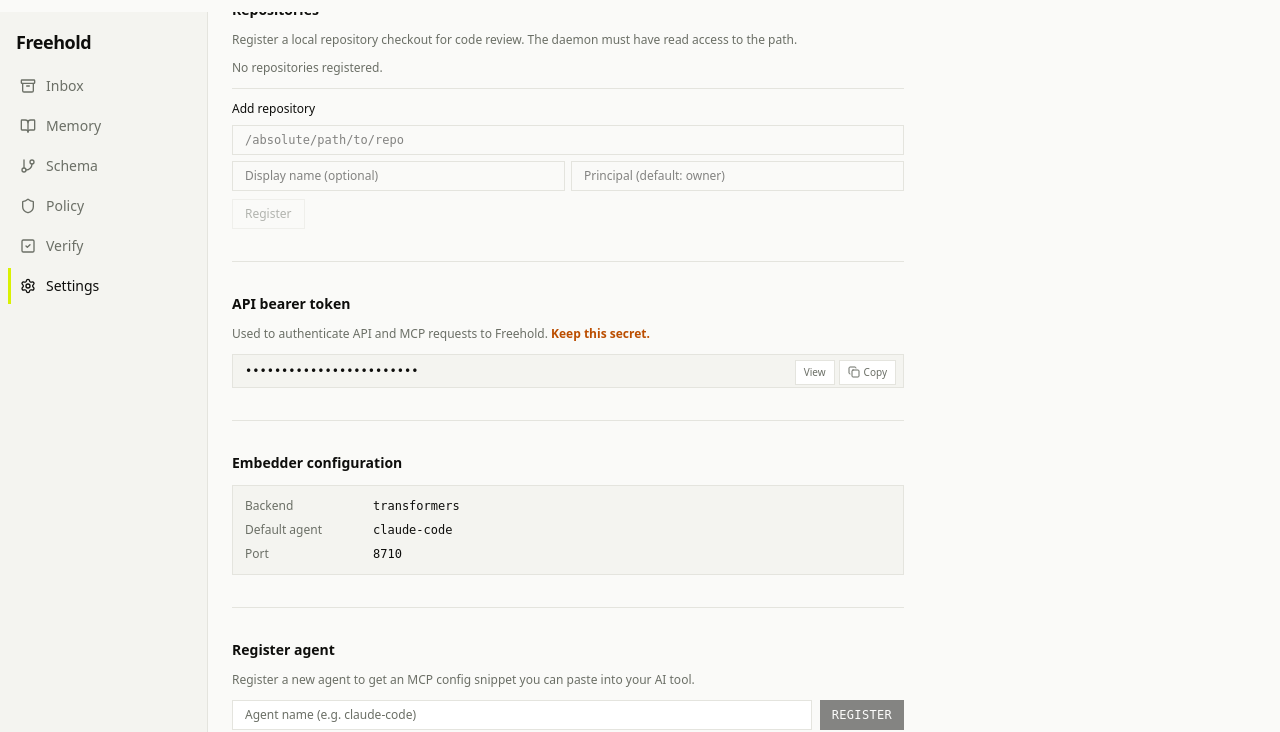
Test: API token masking › View toggle reveals the real token
The width and height of the screenshot is (1280, 732).
(page scrolled)
Click the button with test id "token-visibility-toggle" at [815, 372], box [795,360,835,384]
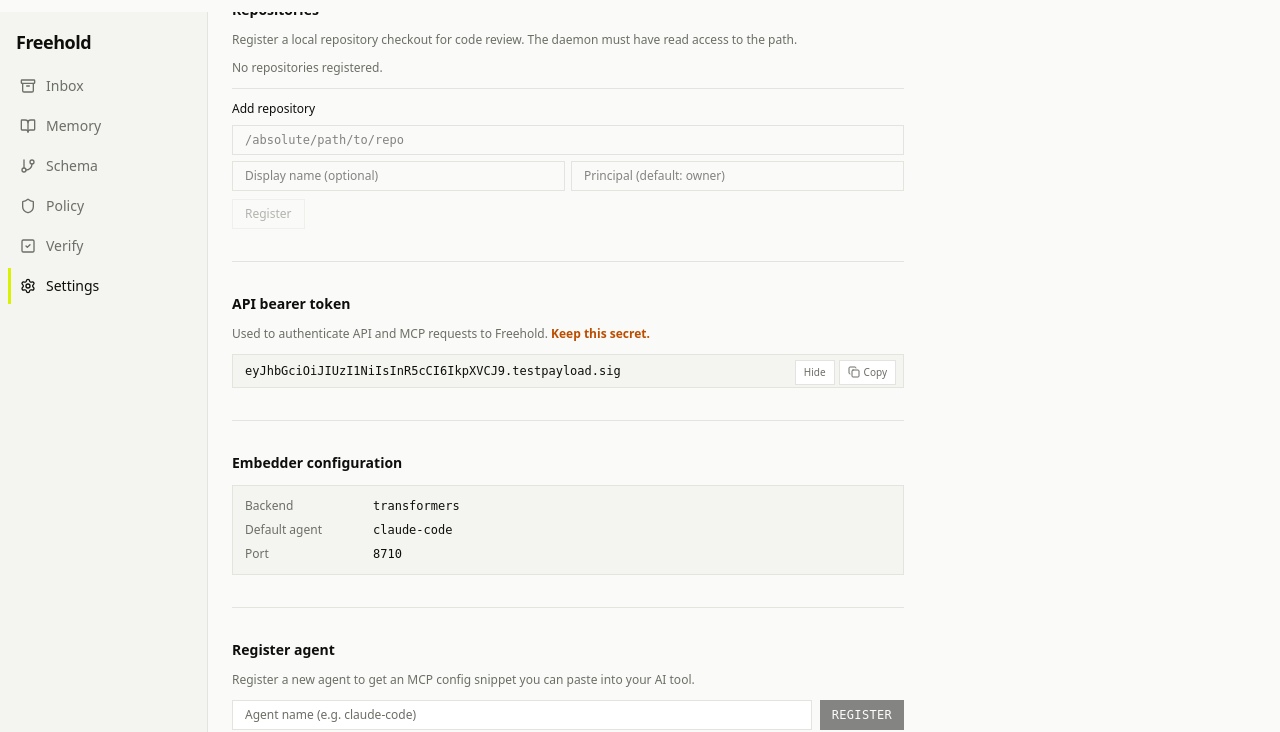
Expected: the text with test id "api-token-display" reads "eyJhbGciOiJIUzI1NiIsInR5cCI6IkpXVCJ9.testpayload.sig", [245,364,621,378]
Expected: the button with test id "token-visibility-toggle" reads "Hide", [795,360,835,384]
